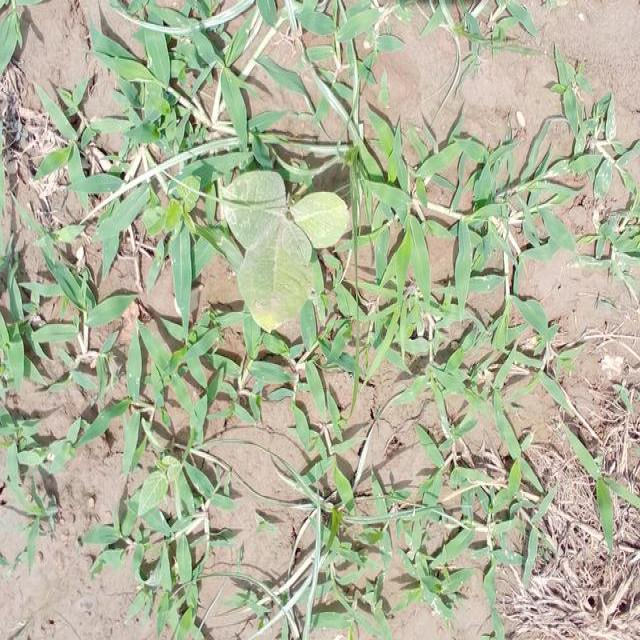crop: (220, 170, 343, 328)
